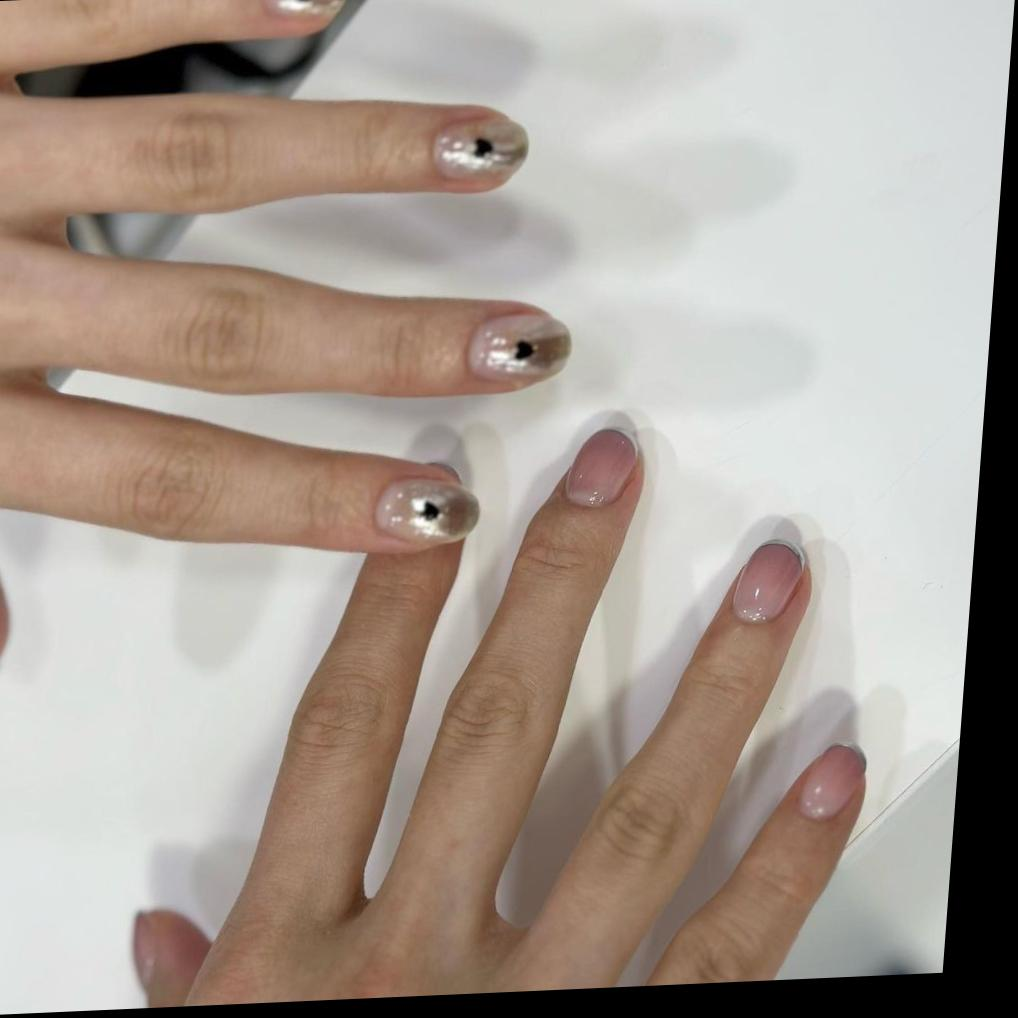nail: (370, 474, 482, 548), (464, 309, 573, 385), (728, 538, 807, 625), (429, 114, 529, 181), (561, 427, 641, 510), (792, 742, 867, 823), (260, 0, 347, 22)
